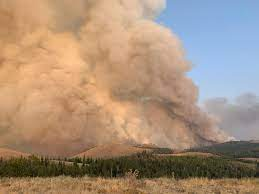smoke: (1, 1, 214, 143)
